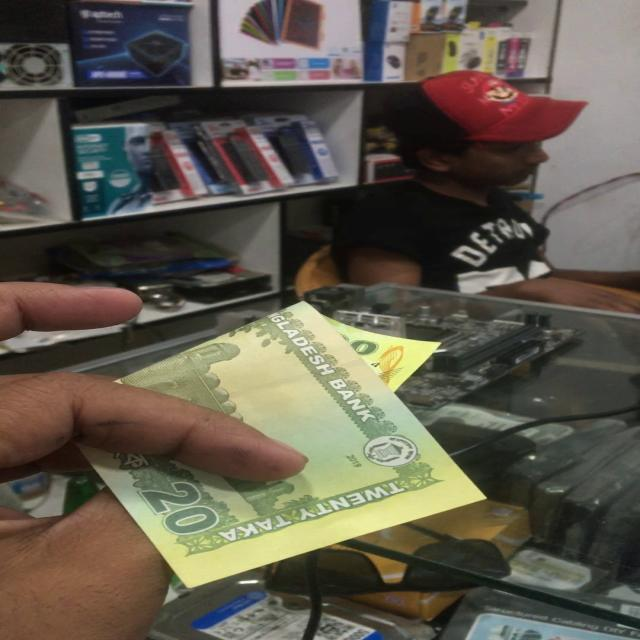Taka: (72, 294, 489, 588)
